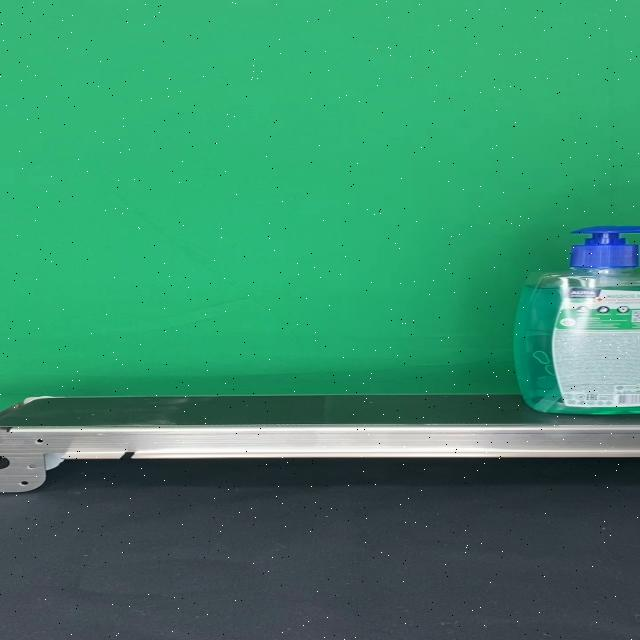Bottle: (515, 225, 640, 414)
Cap: (569, 225, 640, 267)
